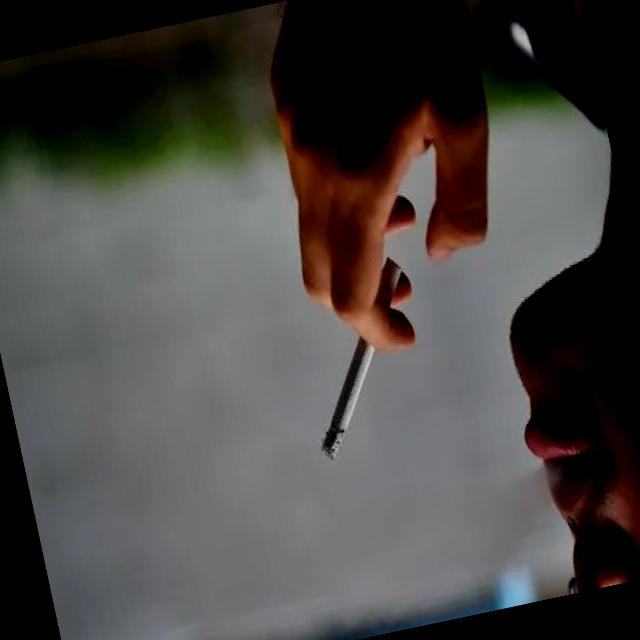smoke: (284, 250, 440, 462)
